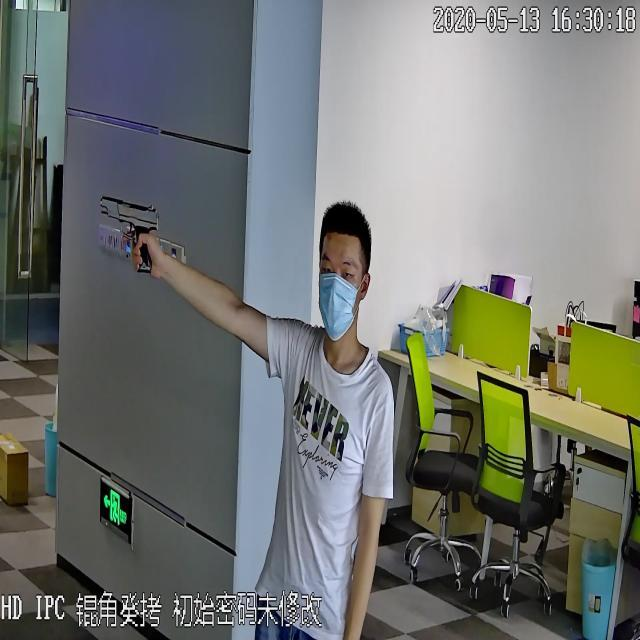gun: (95, 188, 159, 278)
